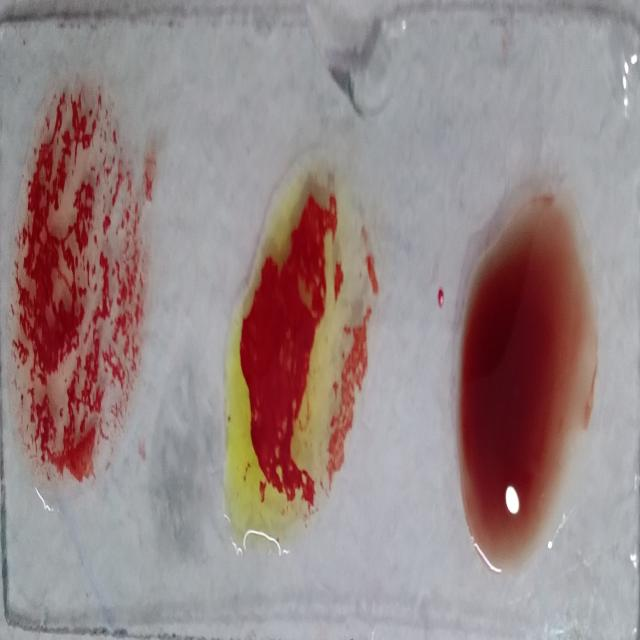B: (224, 142, 376, 534)
D: (14, 72, 141, 492)
